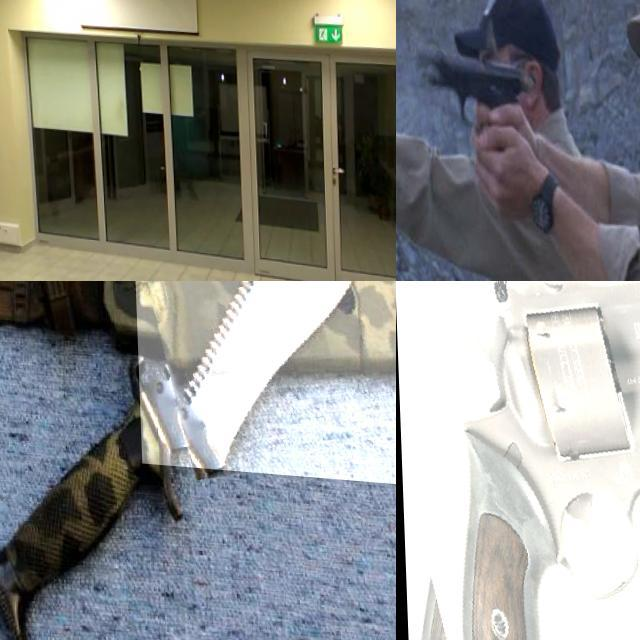-: (128, 281, 396, 477)
gun-knife-thesis - v11 Yolov5 augmented: (396, 281, 640, 640), (426, 30, 548, 212), (0, 144, 22, 189)
